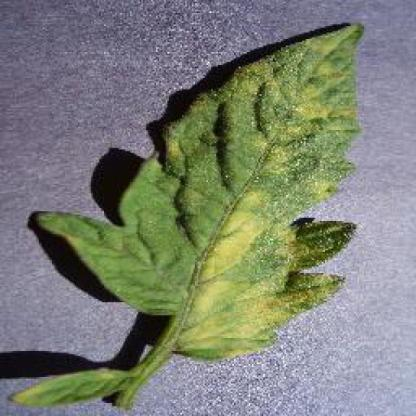Tomato_Leaf_Mold: (37, 21, 364, 357)
